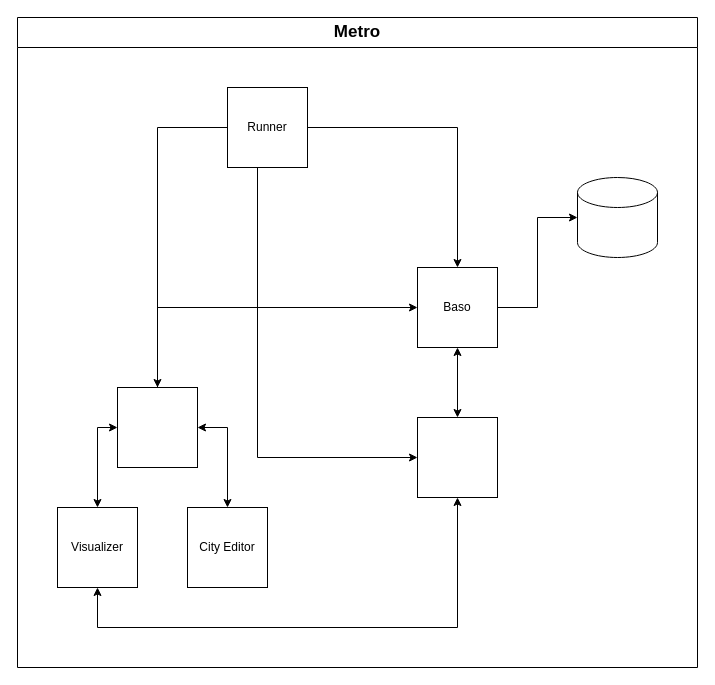
This 715x685 diagram has some shape labels left out. The centre of each missing label's shape, as x and y in pixels:
"CityServer" belongs at (157,427).
"db:metro" belongs at (617,217).
"WS" belongs at (457,457).
